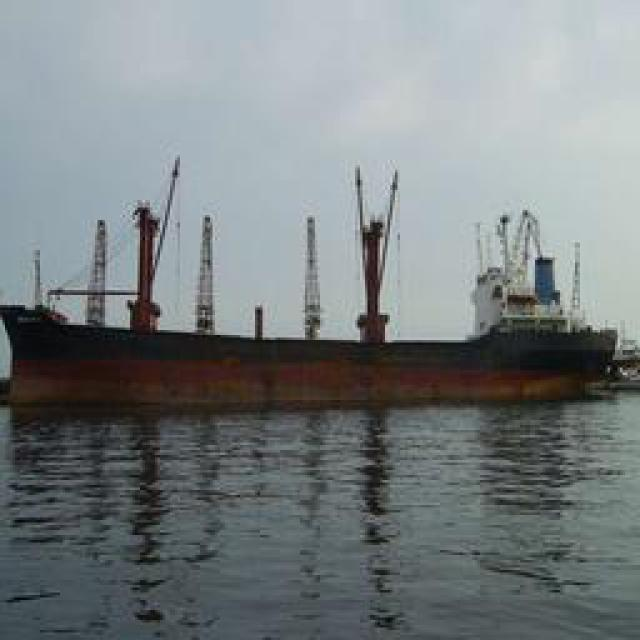Ship: (3, 322, 611, 402)
